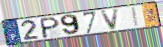2: (20, 19, 42, 42)
7: (82, 10, 99, 35)
9: (60, 14, 83, 36)
I: (131, 6, 141, 28)
P: (41, 16, 61, 39)
V: (100, 7, 121, 31)
